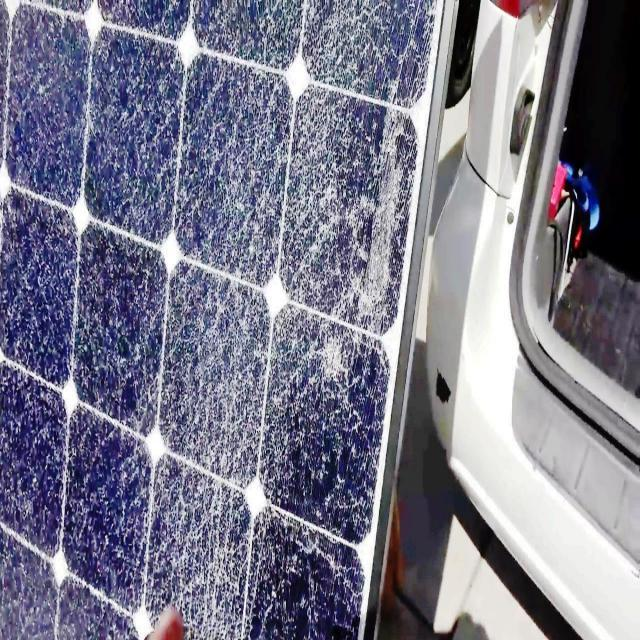faulty: (1, 1, 435, 626)
